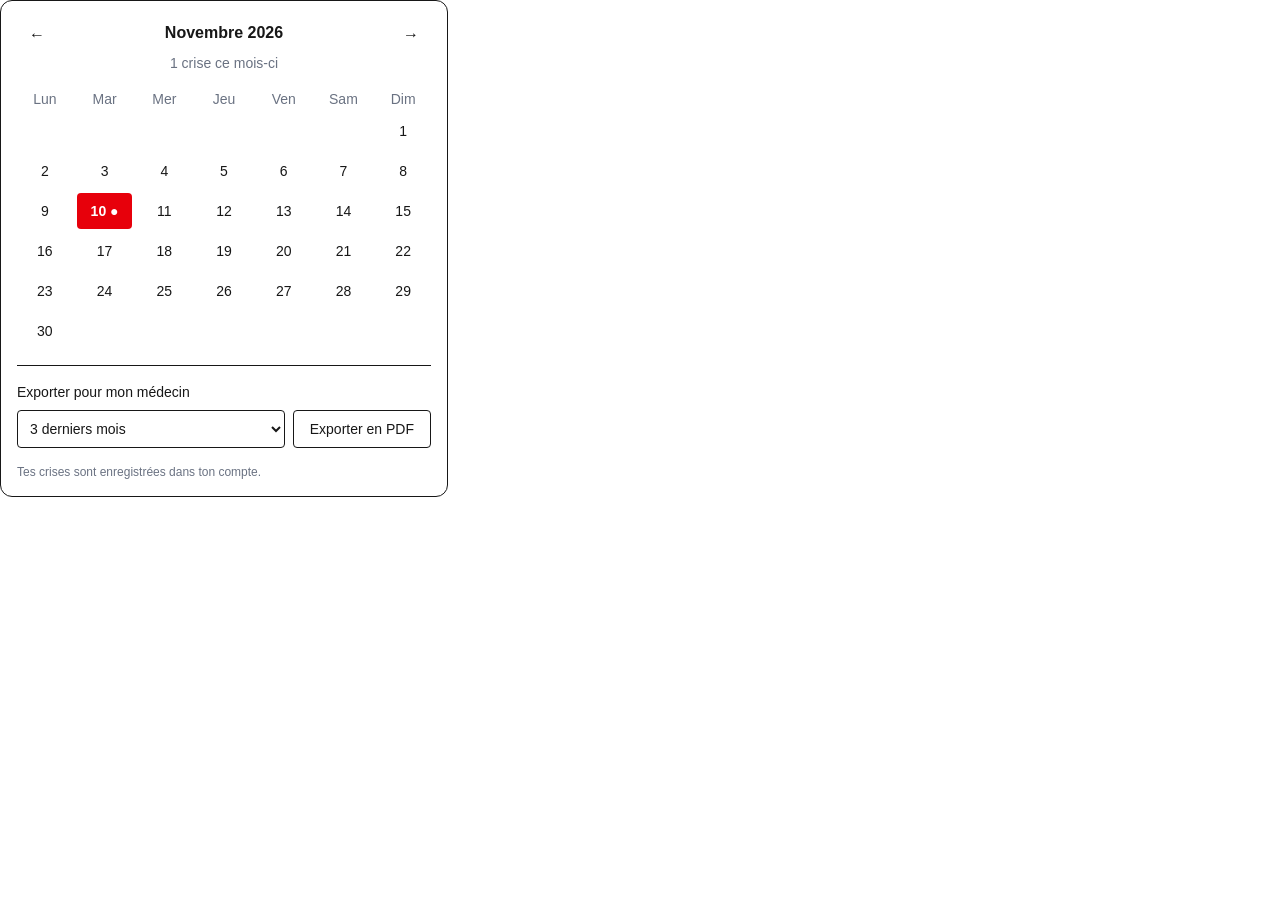
Test: suppression d'une crise › supprime la crise une fois la suppression confirmée
The width and height of the screenshot is (1280, 900).
Step 1. Click the button "10 ●" → (105, 211), box x1=77 y1=193 x2=132 y2=229
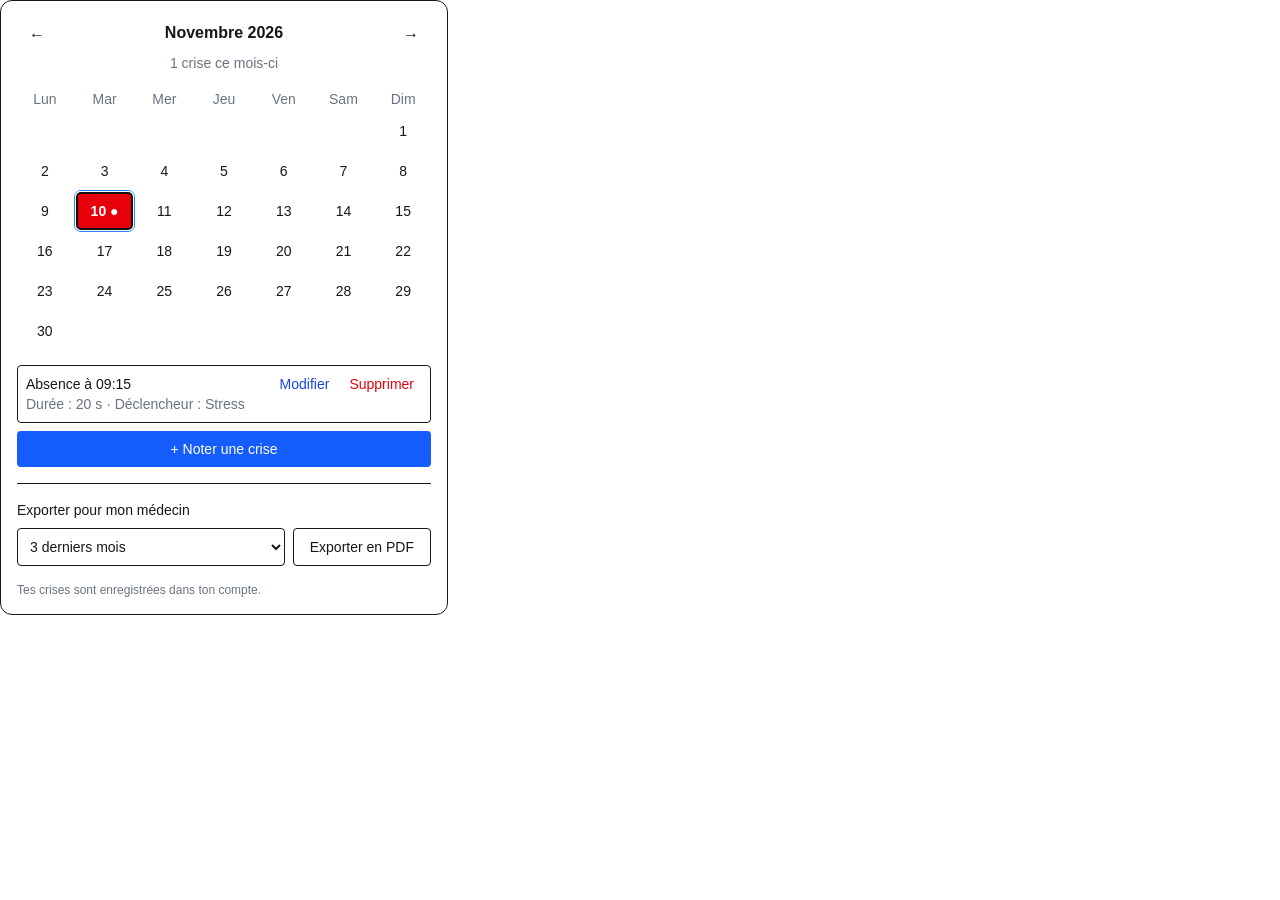
Step 2. Click the button with aria-label "Supprimer cette crise" → (382, 384), box x1=341 y1=374 x2=422 y2=394
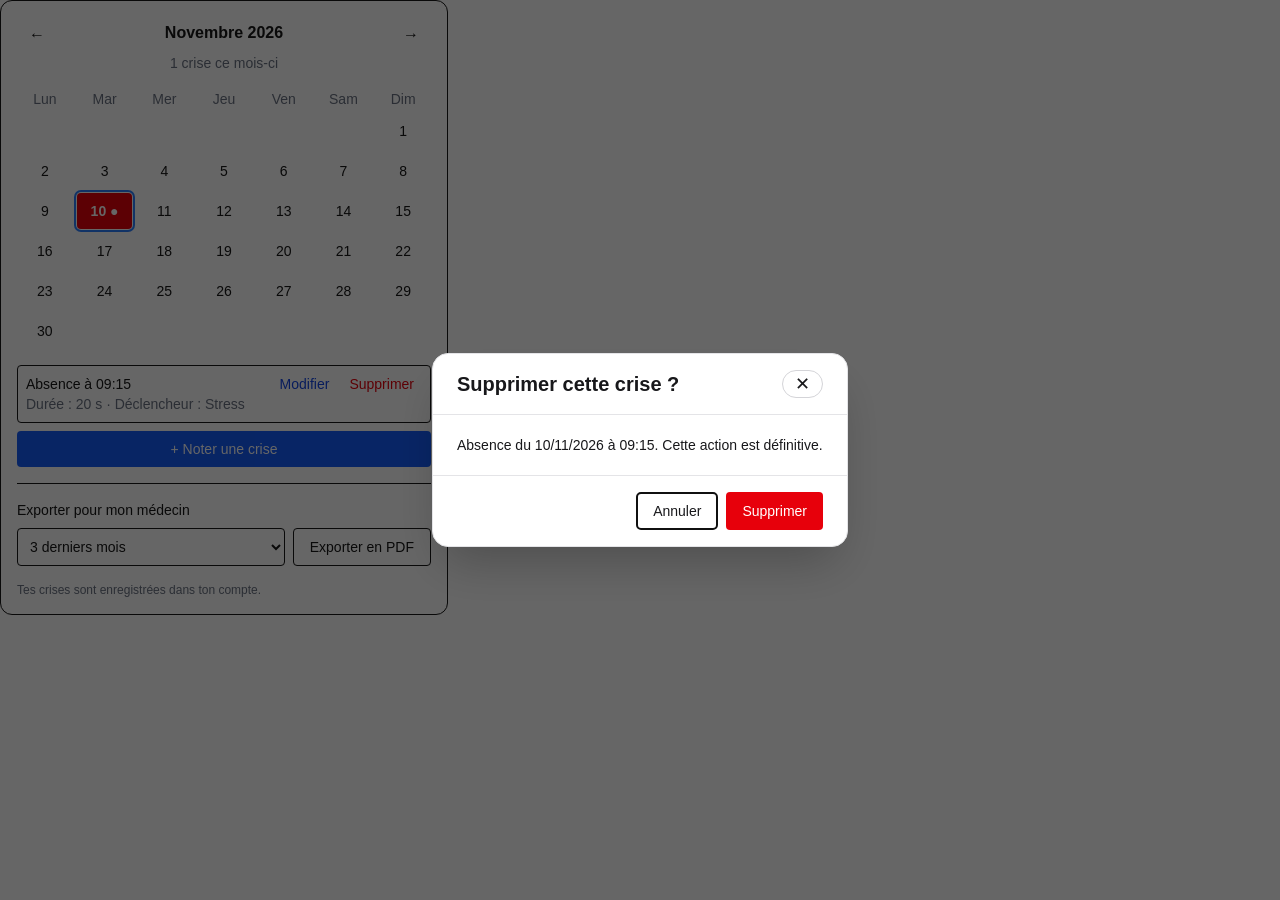
Step 3. Click the button "Supprimer" → (775, 511), box x1=726 y1=492 x2=823 y2=530
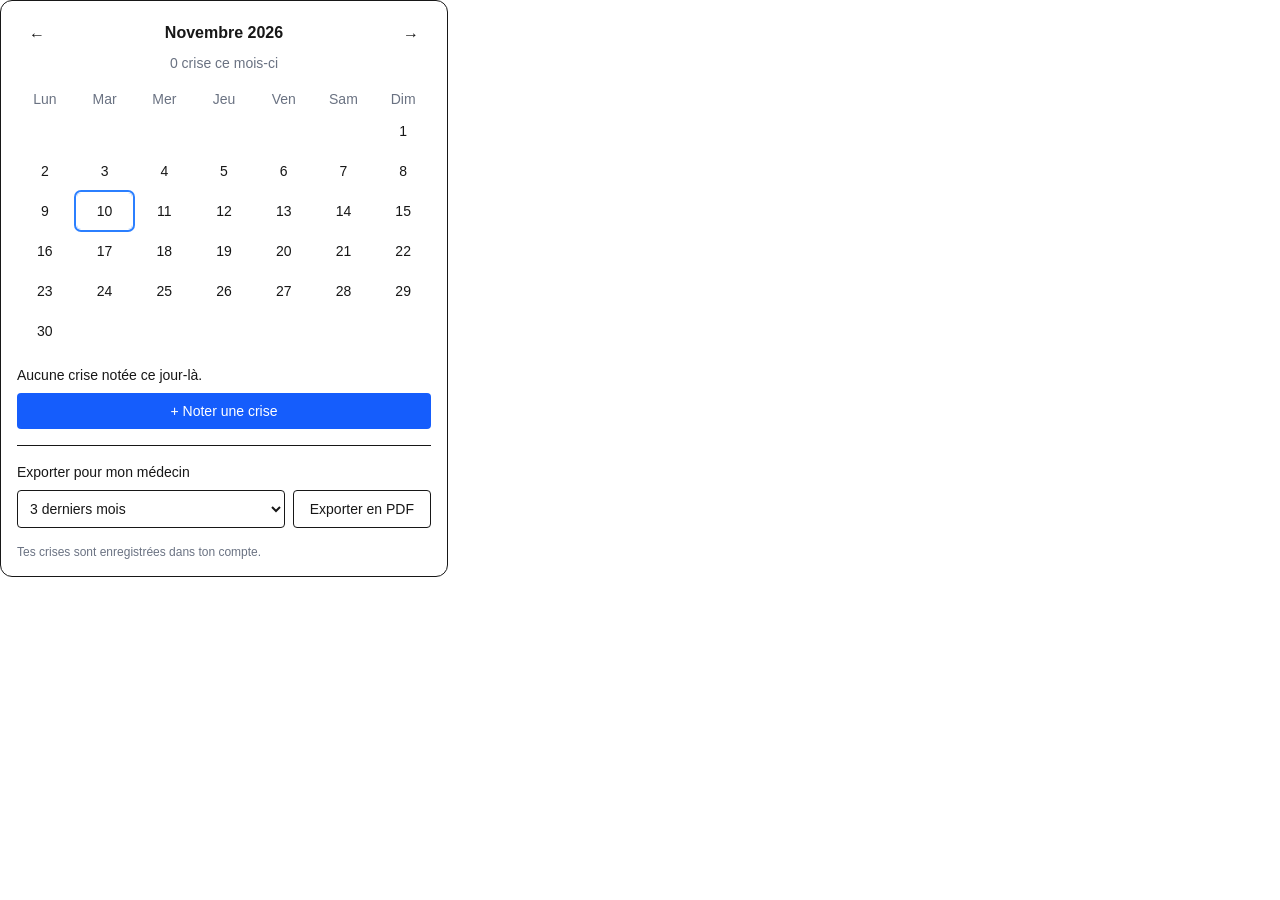
Now the text "Absence à 09:15" is gone
Now the text "Aucune crise notée ce jour-là." is shown, box x1=17 y1=367 x2=202 y2=383
Now the text "Cette action est définitive" is gone
